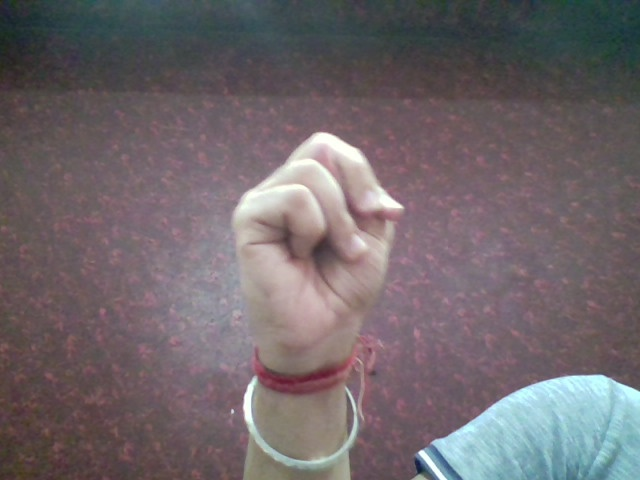n: (221, 121, 422, 371)
